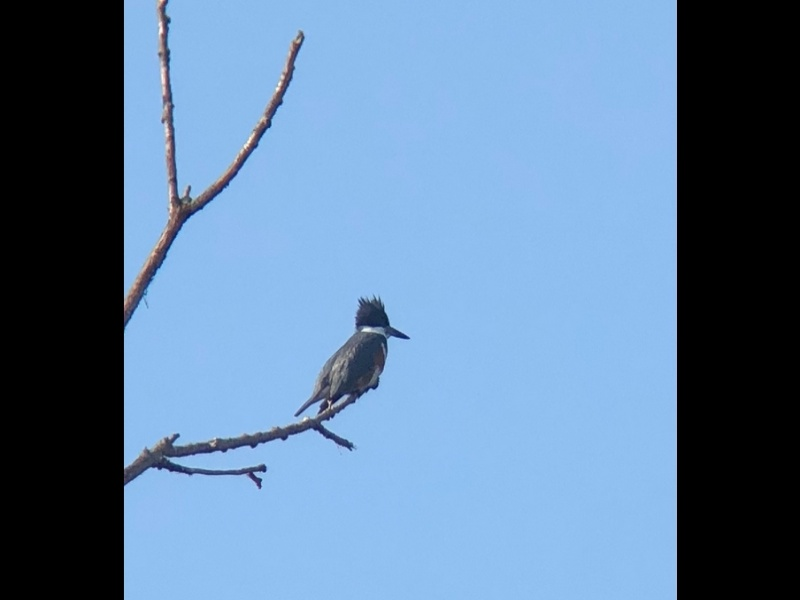kingfisher: (293, 292, 412, 422)
